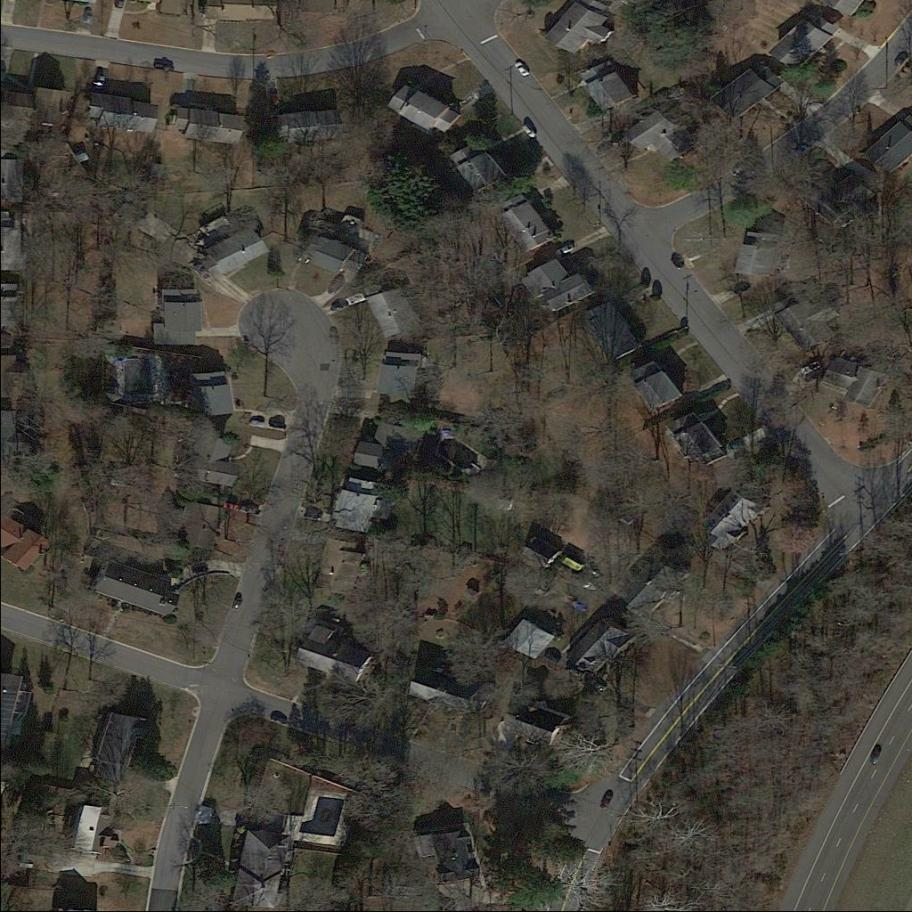small-vehicle: (324, 271, 347, 299), (585, 673, 607, 693), (729, 160, 752, 178), (867, 742, 884, 765), (598, 788, 615, 811), (513, 58, 531, 79), (892, 48, 910, 68), (269, 711, 290, 727), (669, 253, 686, 271), (553, 245, 574, 259), (153, 58, 175, 71), (329, 299, 349, 313), (523, 123, 539, 140), (230, 594, 245, 612), (301, 509, 322, 521), (190, 564, 211, 576), (239, 505, 263, 515), (734, 281, 751, 295), (269, 419, 288, 431), (82, 7, 94, 25), (247, 417, 265, 429), (95, 75, 106, 94), (222, 501, 240, 510), (330, 328, 339, 345)
